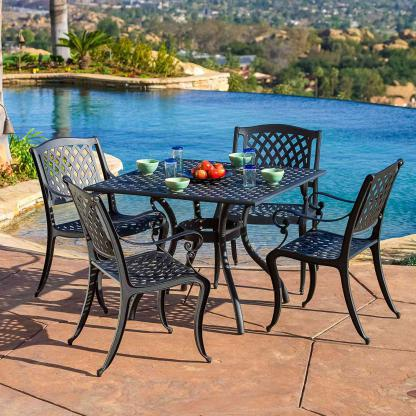table: (75, 154, 329, 336)
